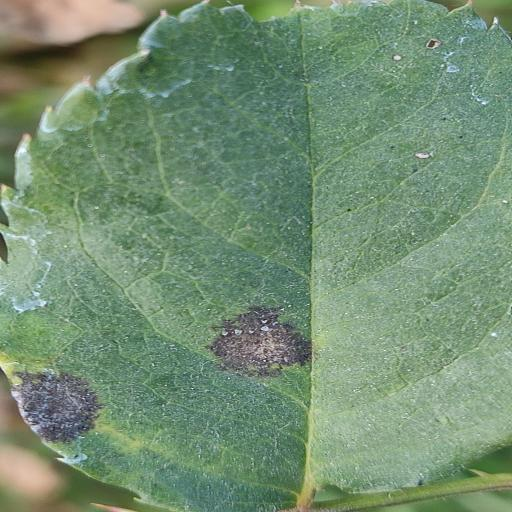black_spot: (0, 0, 512, 512), (298, 225, 298, 226)
